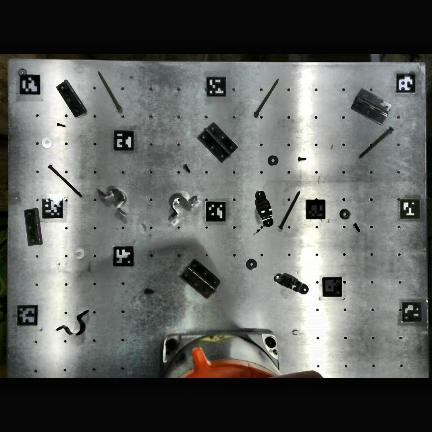black_screw: (354, 224, 359, 231), (185, 165, 190, 172), (58, 123, 65, 126), (146, 291, 153, 294), (299, 158, 306, 160)
clamp: (57, 310, 89, 335), (98, 188, 126, 215), (169, 194, 197, 220), (274, 273, 308, 294), (264, 220, 274, 226)
golden_screw: (48, 165, 81, 196), (360, 128, 393, 157), (254, 79, 278, 116), (98, 72, 121, 110), (279, 192, 300, 229)
hinge: (181, 260, 220, 298), (199, 124, 236, 161), (352, 90, 391, 124), (57, 80, 86, 116), (25, 208, 42, 245)
marker: (17, 304, 38, 325), (400, 198, 420, 219), (42, 198, 62, 218), (113, 246, 133, 266), (114, 130, 134, 150), (206, 75, 226, 95), (403, 300, 422, 321), (206, 201, 225, 222), (20, 75, 40, 94), (396, 73, 415, 93), (306, 200, 325, 219), (323, 278, 342, 296)
washer: (74, 248, 85, 259), (42, 138, 53, 148), (340, 209, 350, 219), (247, 260, 257, 269), (268, 156, 278, 165)
